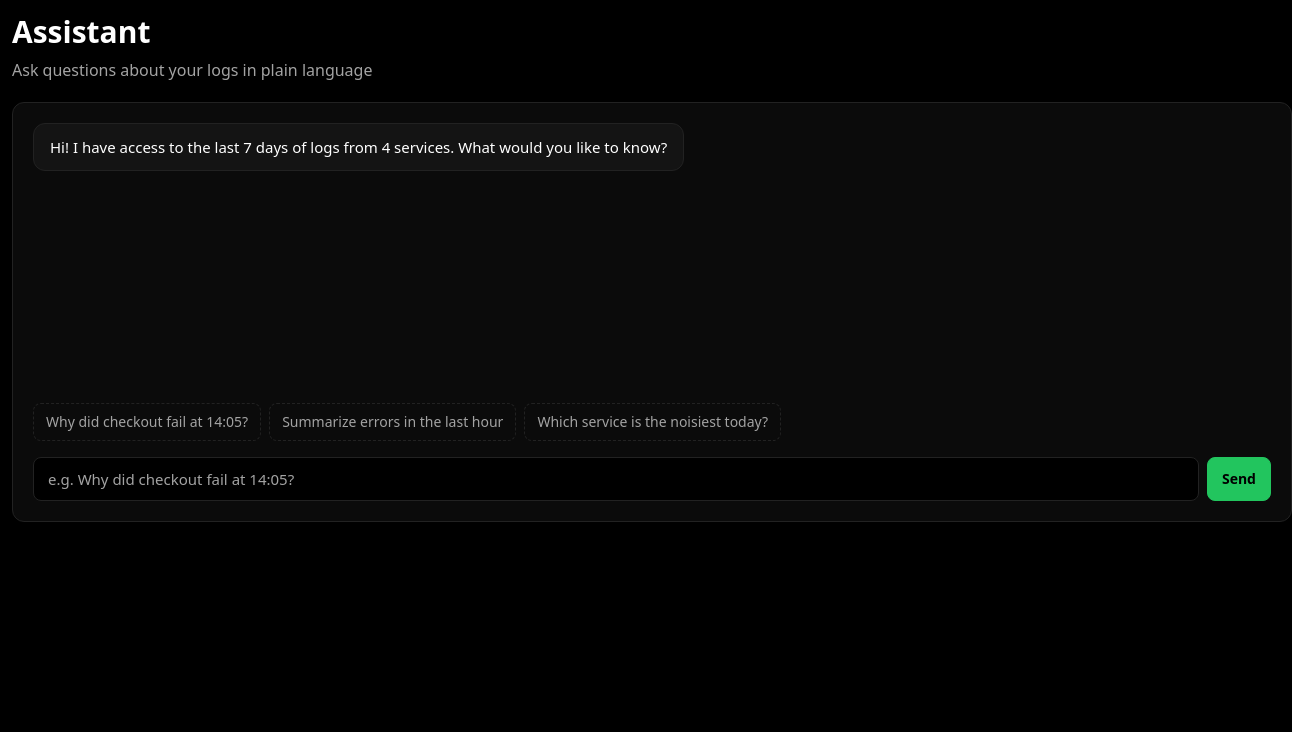
Scenario: AssistantPage › gives the canned answer for a suggestion
Click the button "Which service is the noisiest today?" at (653, 422), box [524,403,781,441]
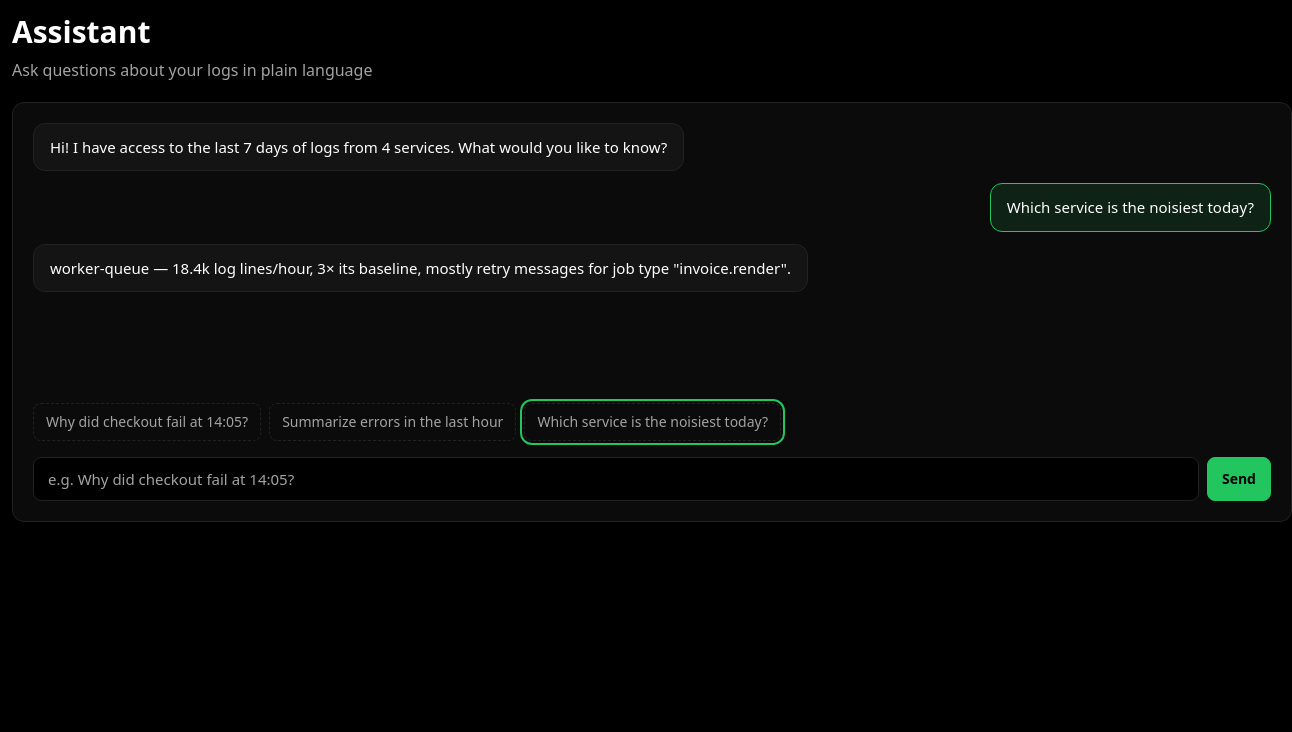
Expected: the text "18.4k log lines/hour" is shown, [50,258,791,278]
